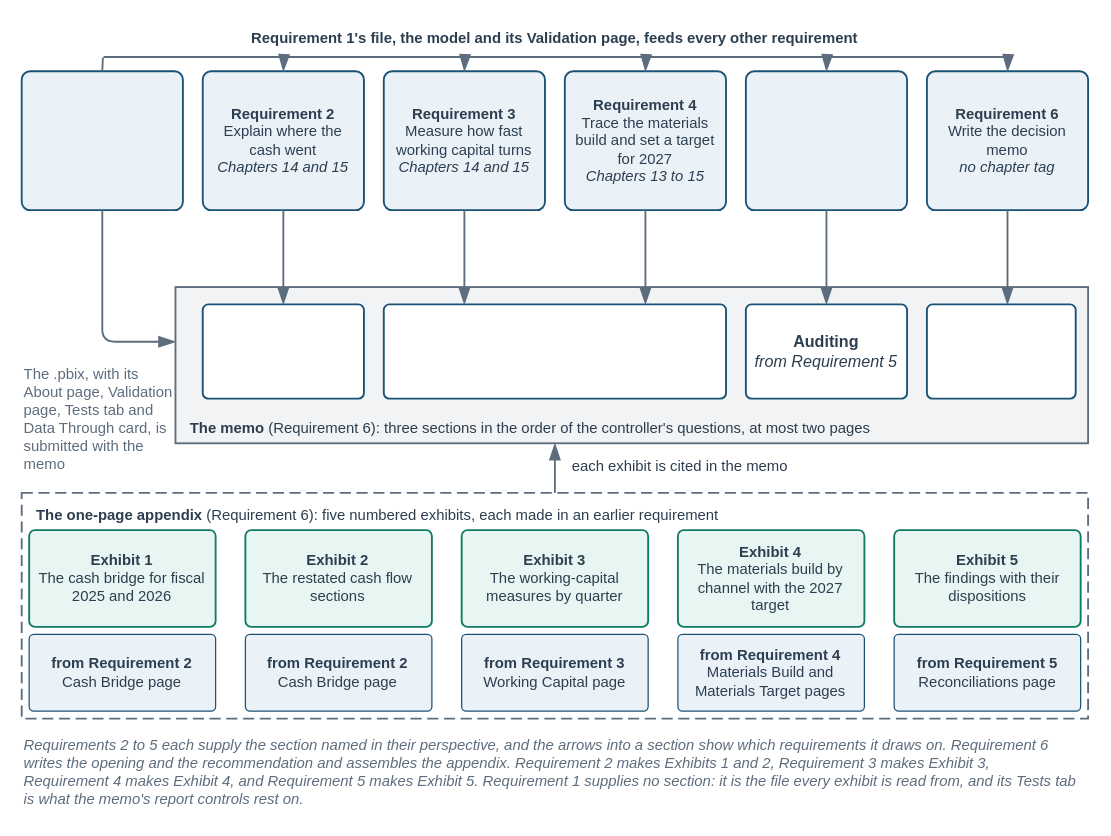
Some shapes in this 1111 by 836 pixel diagram are drawn without their labels. Each missing label, with the centre of its shape:
Financial reporting from Requirement 2: point 282,351
Managerial accounting from Requirements 3 and 4: point 554,351
Opening and recommendation written in Requirement 6: point 1000,351
Requirement 1 Build and validate the case file Chapters 13, 14, and 16: point 101,140
Requirement 5 Test the balances behind the report Chapters 14 to 16: point 825,140
